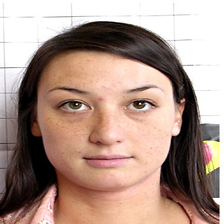no_mask: (38, 60, 174, 186)
